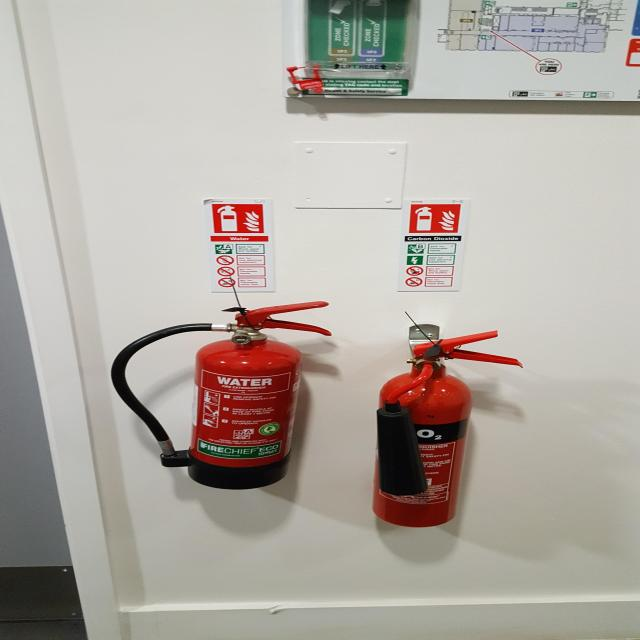fire_extinguisher: (105, 298, 336, 492), (362, 329, 534, 530)
